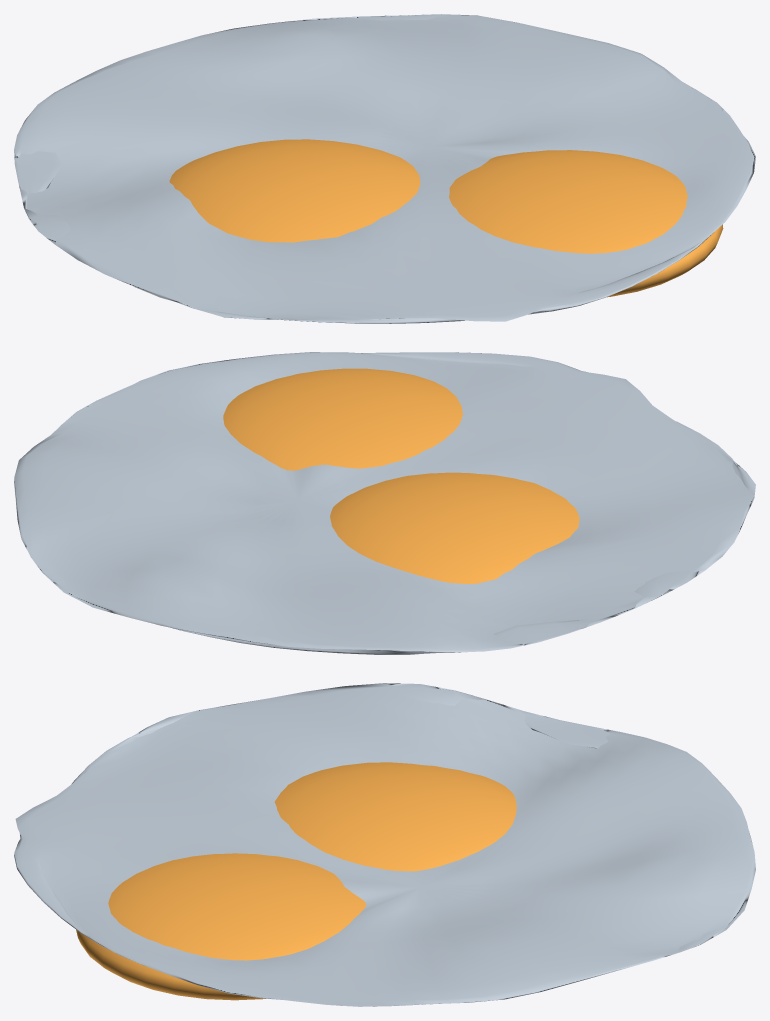
File: raweggs4.fbx
The picture shows the model from 3 angles, top to bottom: view 1: azimuth 30°, elevation 25°; view 2: azimuth 150°, elevation 25°; view 3: azimuth 270°, elevation 25°; orthographic projection.
Parts seen in each view (by area): view 1: Sphere.011, Sphere.013, Sphere.012; view 2: Sphere.011, Sphere.012, Sphere.013; view 3: Sphere.011, Sphere.013, Sphere.012.
Boxes of the visible parts, x1,y1,x2,y2 form: Sphere.011: (14,14,755,323); Sphere.013: (449,150,723,297); Sphere.012: (169,139,420,242); Sphere.011: (14,352,755,654); Sphere.012: (330,472,579,583); Sphere.013: (223,368,462,470); Sphere.011: (14,683,755,1006); Sphere.013: (76,853,366,1000); Sphere.012: (274,762,516,871).
Size of the model in its own units: 236 by 28.96 by 234.
